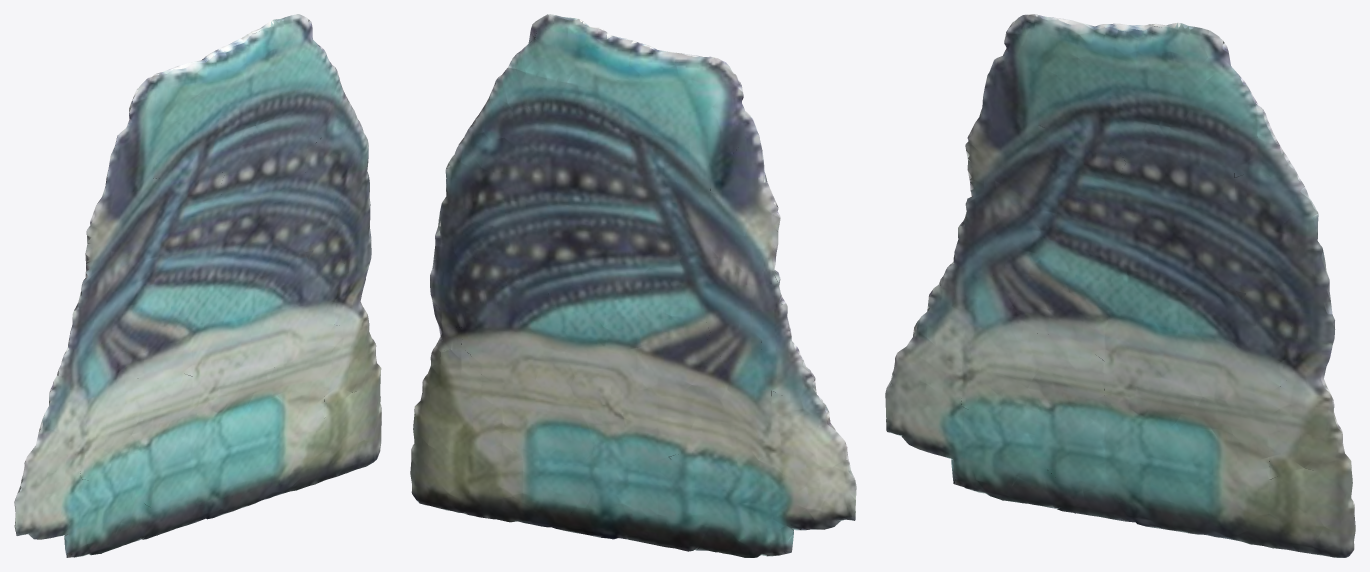
3 renders of one model, left to right at view 1: azimuth 30°, elevation 25°; view 2: azimuth 150°, elevation 25°; view 3: azimuth 330°, elevation 25°, orthographic. The views are drawn at different scales.
Parts seen in each view (by area): view 1: world; view 2: world; view 3: world.
Boxes of the visible parts, <box> form: world: <box>14,14,381,557</box>; world: <box>410,14,856,557</box>; world: <box>885,14,1355,557</box>.
Size of the model in its own units: 0.8621 by 1.01 by 0.1548.
1 material, 1 textured.
